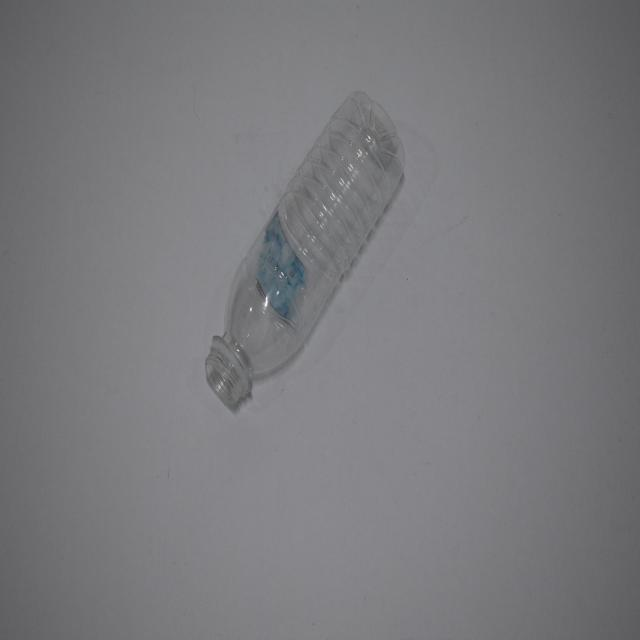plastic: (202, 84, 406, 410)
